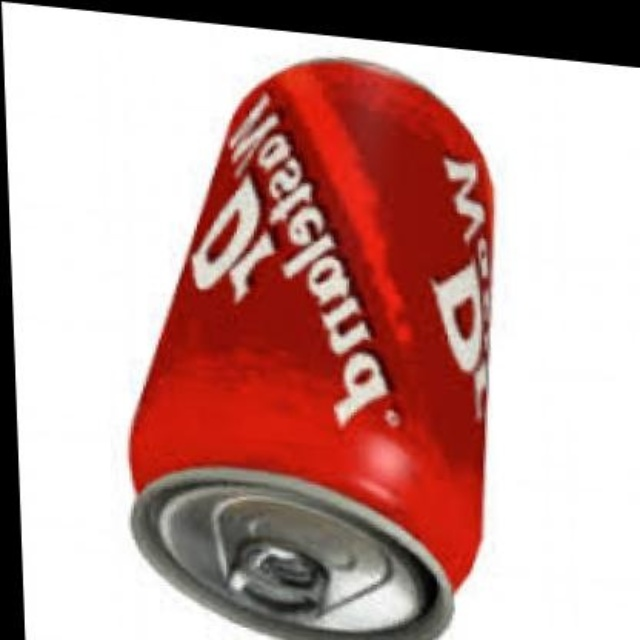trash: (131, 60, 491, 638)
